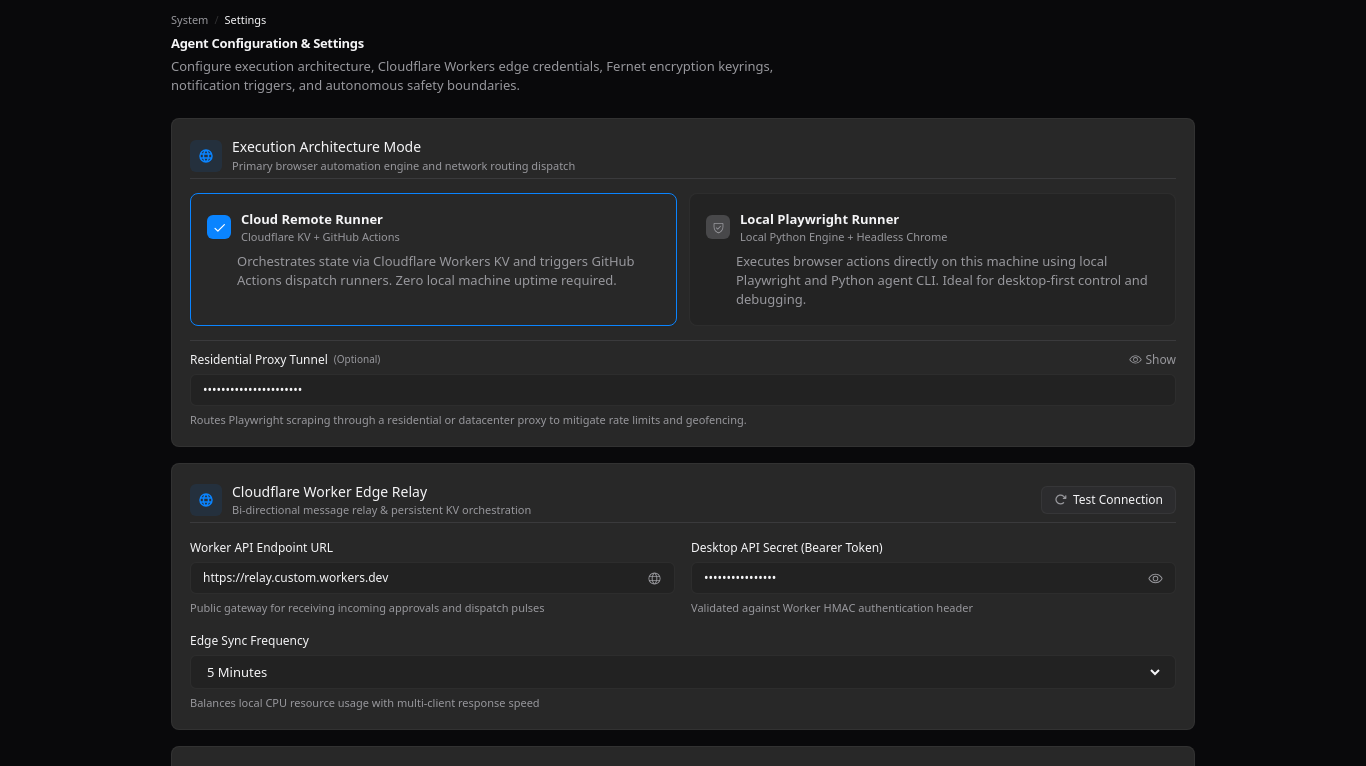
Test: SettingsView › shows unsaved changes bar when edited and hides on discard
Replace the text in the field with placeholder "https://relay.your-subdomain.workers.dev" with "https://relay.temporary.workers.dev" at (421, 578), box 203,569 -> 639,587
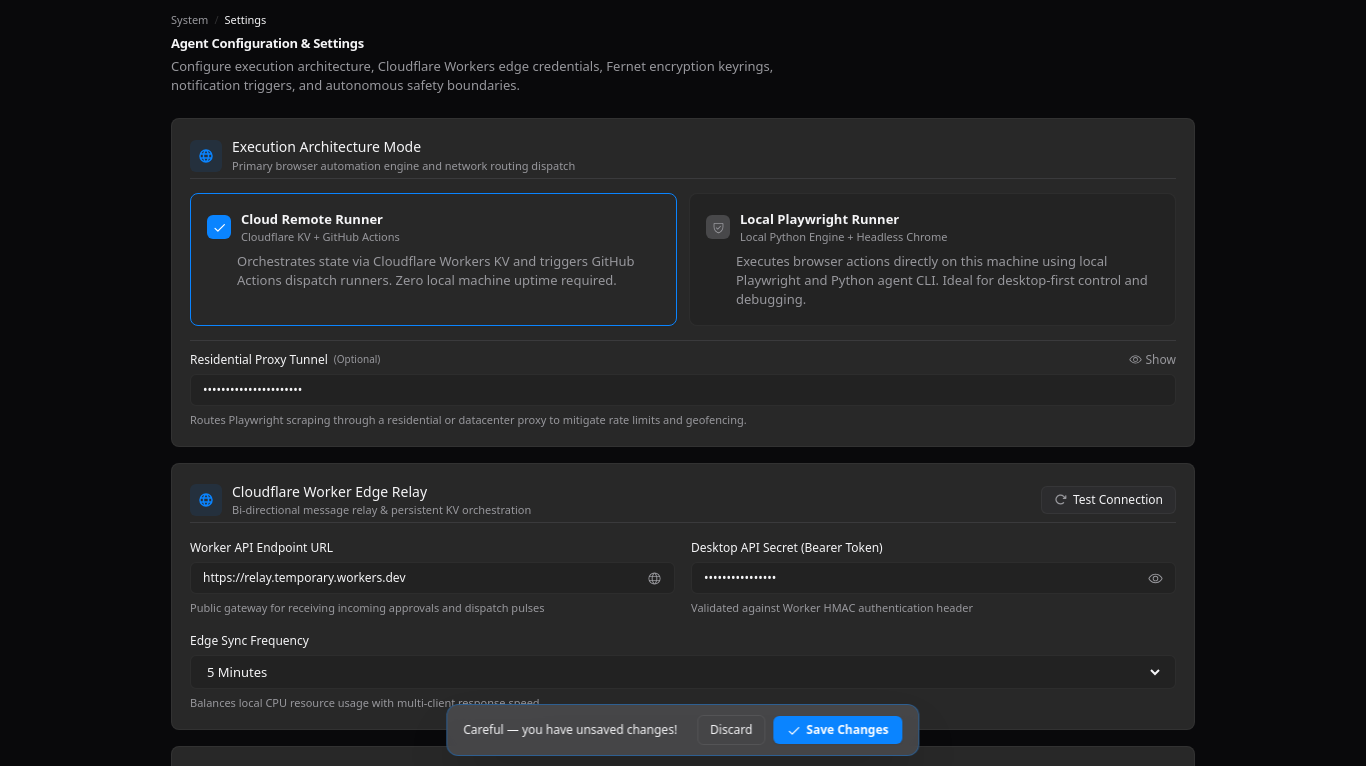
Expected: the element with test id "unsaved-changes-bar" is shown, 446,704 -> 920,756
Click the button with test id "discard-settings-btn" at (731, 730), box 697,715 -> 765,745
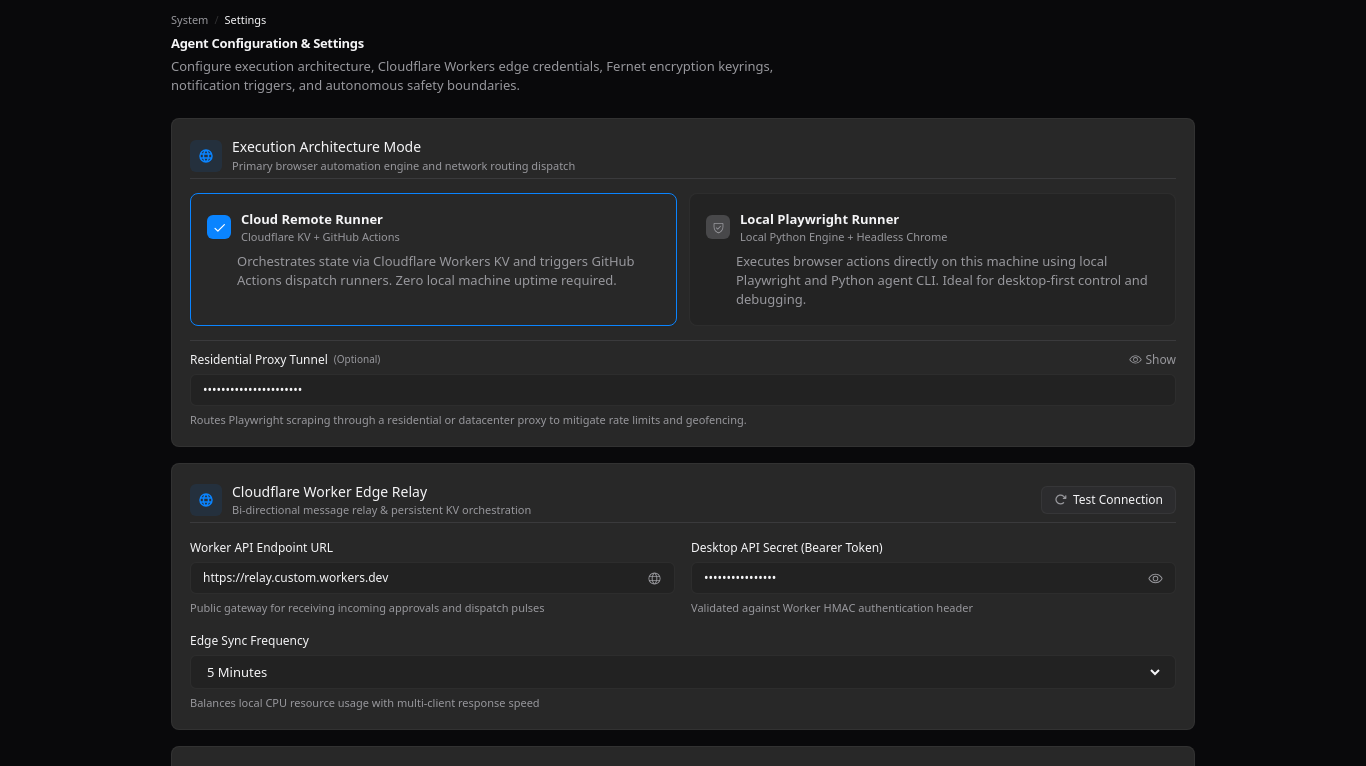
Expected: the field with placeholder "https://relay.your-subdomain.workers.dev" holds "https://relay.custom.workers.dev", 203,569 -> 639,587
Expected: the element with test id "unsaved-changes-bar" is gone
